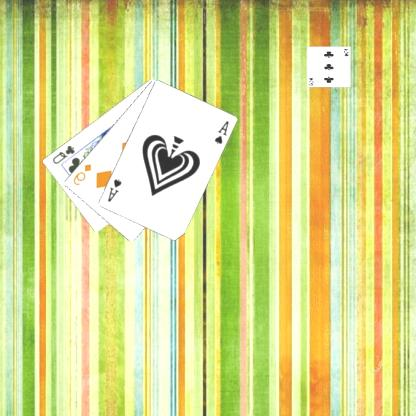6D: (72, 162, 94, 186)
AS: (213, 118, 232, 146), (106, 176, 125, 203)
QC: (51, 142, 78, 166)
